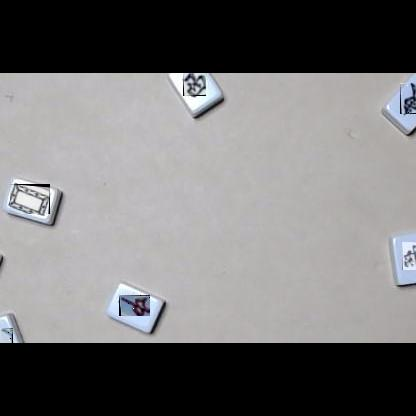1z: (400, 83, 416, 114)
3z: (183, 73, 206, 96)
4z: (402, 242, 416, 270)
5z: (10, 184, 50, 214)
6z: (0, 328, 13, 343)
7z: (119, 295, 150, 316)
